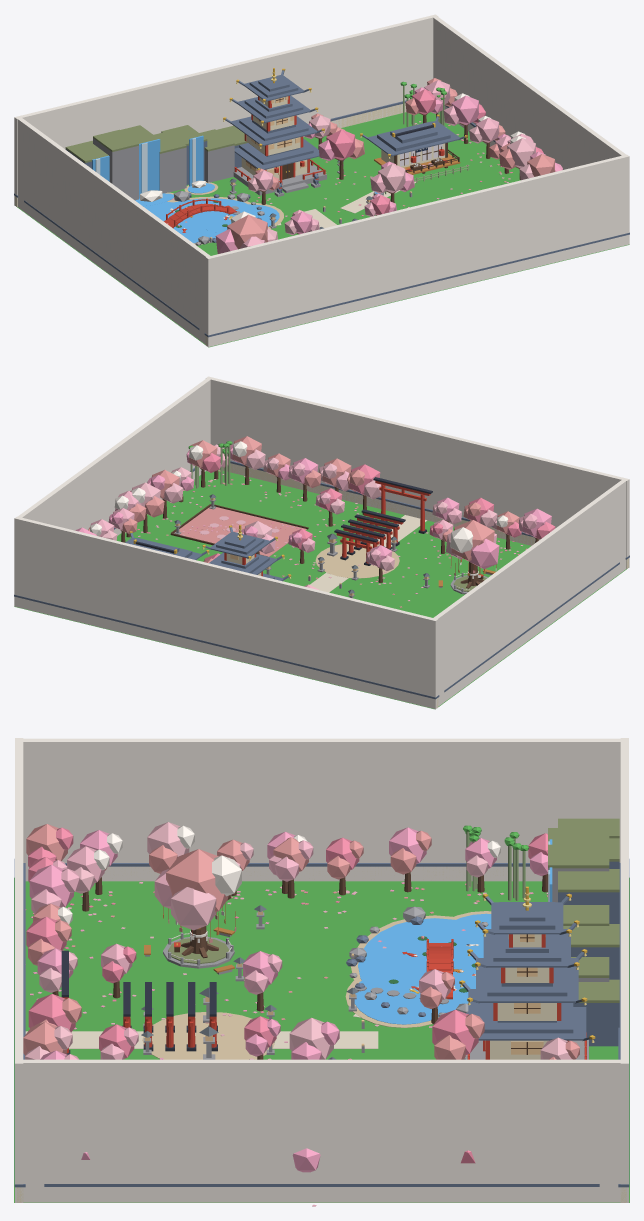
The model's file is CatCafe_Cherry_Set.glb.
The picture shows the model from 3 angles, top to bottom: view 1: azimuth 30°, elevation 25°; view 2: azimuth 150°, elevation 25°; view 3: azimuth 270°, elevation 25°; orthographic projection. The views are drawn at different scales.
Visible parts, largest first — view 1: CatCafe_Cherry_Set_001_Wall_Barrier, CatCafe_Cherry_Set, CatCafe_Cherry_Set_003_Pond_Water, CatCafe_Cherry_Set_005_Waterfall_Water, CatCafe_Cherry_Set_002_Lights_Glow; view 2: CatCafe_Cherry_Set_001_Wall_Barrier, CatCafe_Cherry_Set, CatCafe_Cherry_Set_004_Petals_Decor; view 3: CatCafe_Cherry_Set_001_Wall_Barrier, CatCafe_Cherry_Set, CatCafe_Cherry_Set_003_Pond_Water, CatCafe_Cherry_Set_004_Petals_Decor, CatCafe_Cherry_Set_002_Lights_Glow.
Part boxes in pixels (left/top/right/bottom): CatCafe_Cherry_Set_001_Wall_Barrier: left=14, top=14, right=629, bottom=347; CatCafe_Cherry_Set: left=14, top=68, right=629, bottom=347; CatCafe_Cherry_Set_003_Pond_Water: left=135, top=183, right=381, bottom=243; CatCafe_Cherry_Set_005_Waterfall_Water: left=92, top=135, right=203, bottom=198; CatCafe_Cherry_Set_002_Lights_Glow: left=139, top=96, right=444, bottom=238; CatCafe_Cherry_Set_001_Wall_Barrier: left=14, top=376, right=629, bottom=709; CatCafe_Cherry_Set: left=14, top=436, right=629, bottom=709; CatCafe_Cherry_Set_004_Petals_Decor: left=125, top=470, right=526, bottom=607; CatCafe_Cherry_Set_001_Wall_Barrier: left=15, top=738, right=628, bottom=1202; CatCafe_Cherry_Set: left=14, top=818, right=629, bottom=1202; CatCafe_Cherry_Set_003_Pond_Water: left=354, top=913, right=491, bottom=1024; CatCafe_Cherry_Set_004_Petals_Decor: left=25, top=882, right=547, bottom=1206; CatCafe_Cherry_Set_002_Lights_Glow: left=145, top=911, right=545, bottom=1054.
Bounding box in the file's own units: 152 × 36.89 × 120.
1 material, 1 textured.
